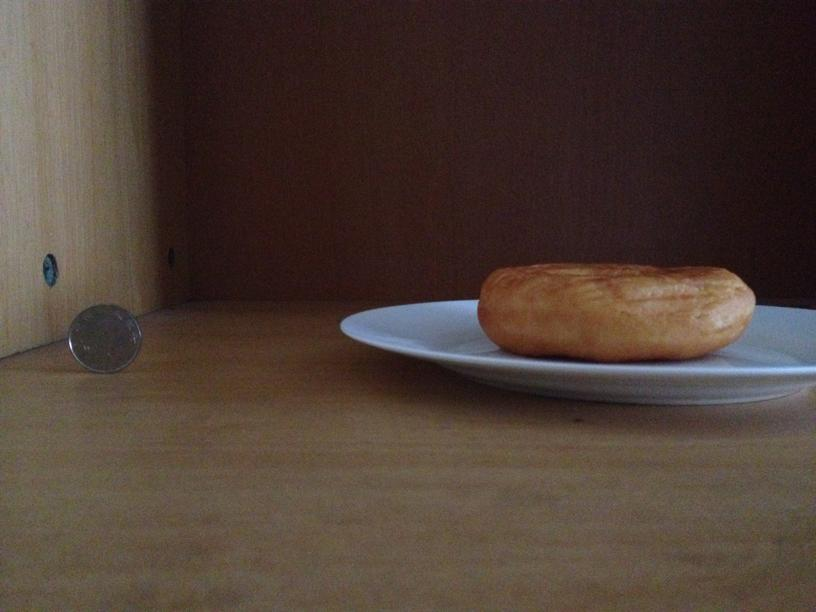coin: (66, 302, 144, 372)
doughnut: (475, 257, 754, 361)
